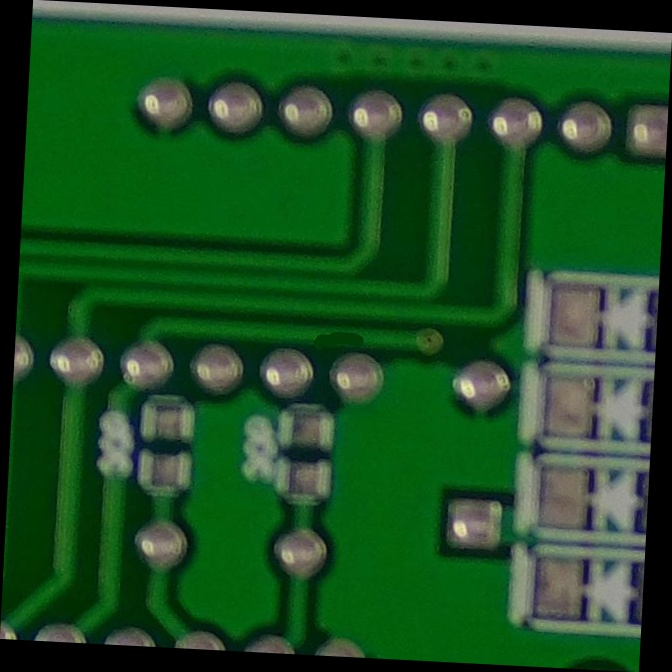mouse_bite: (295, 311, 378, 361)
